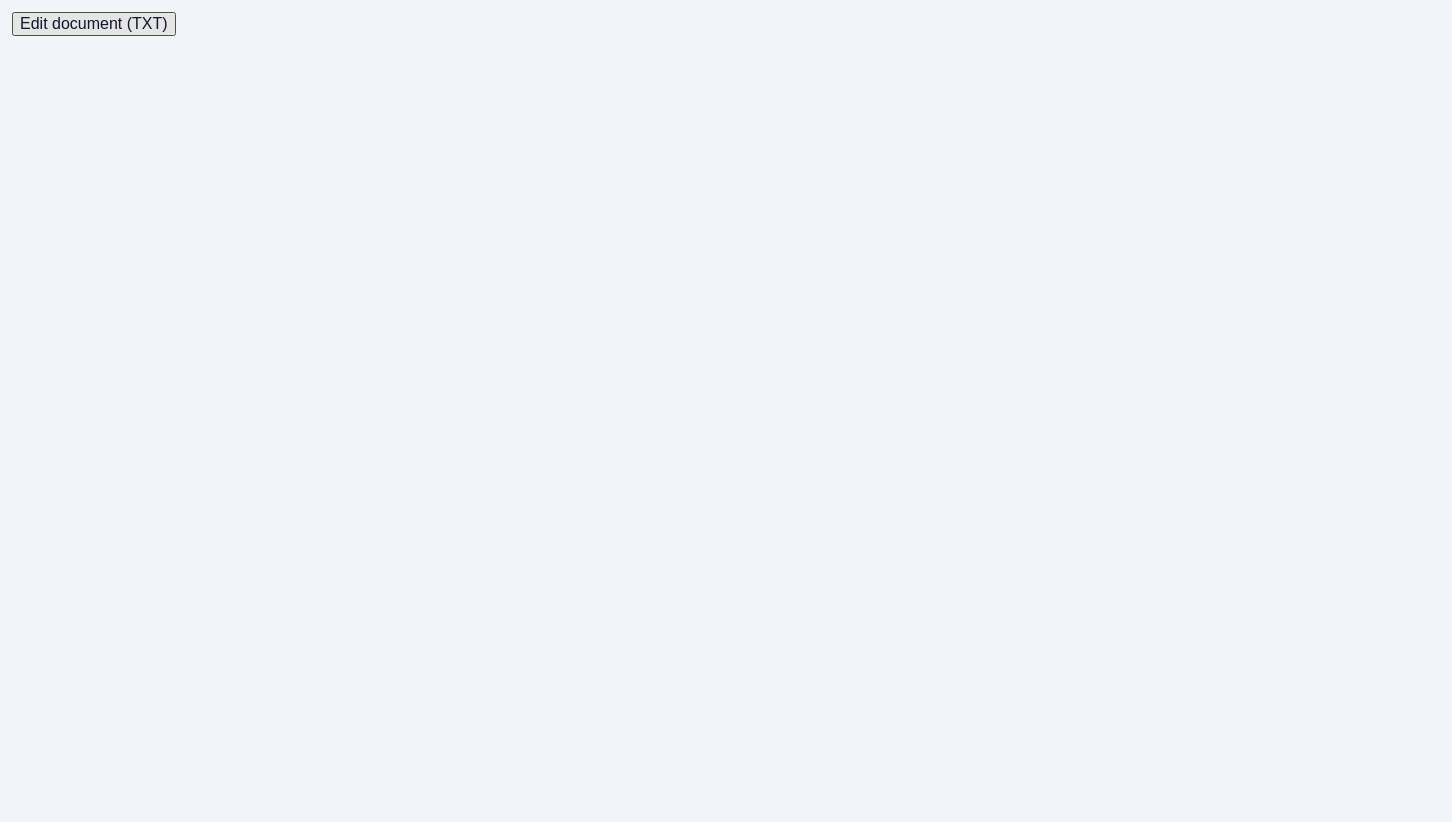
it: refuses selection when the saved editor draft changed
Click the button "Edit document (TXT)". click: (94, 24)
box: [12, 12, 176, 36]
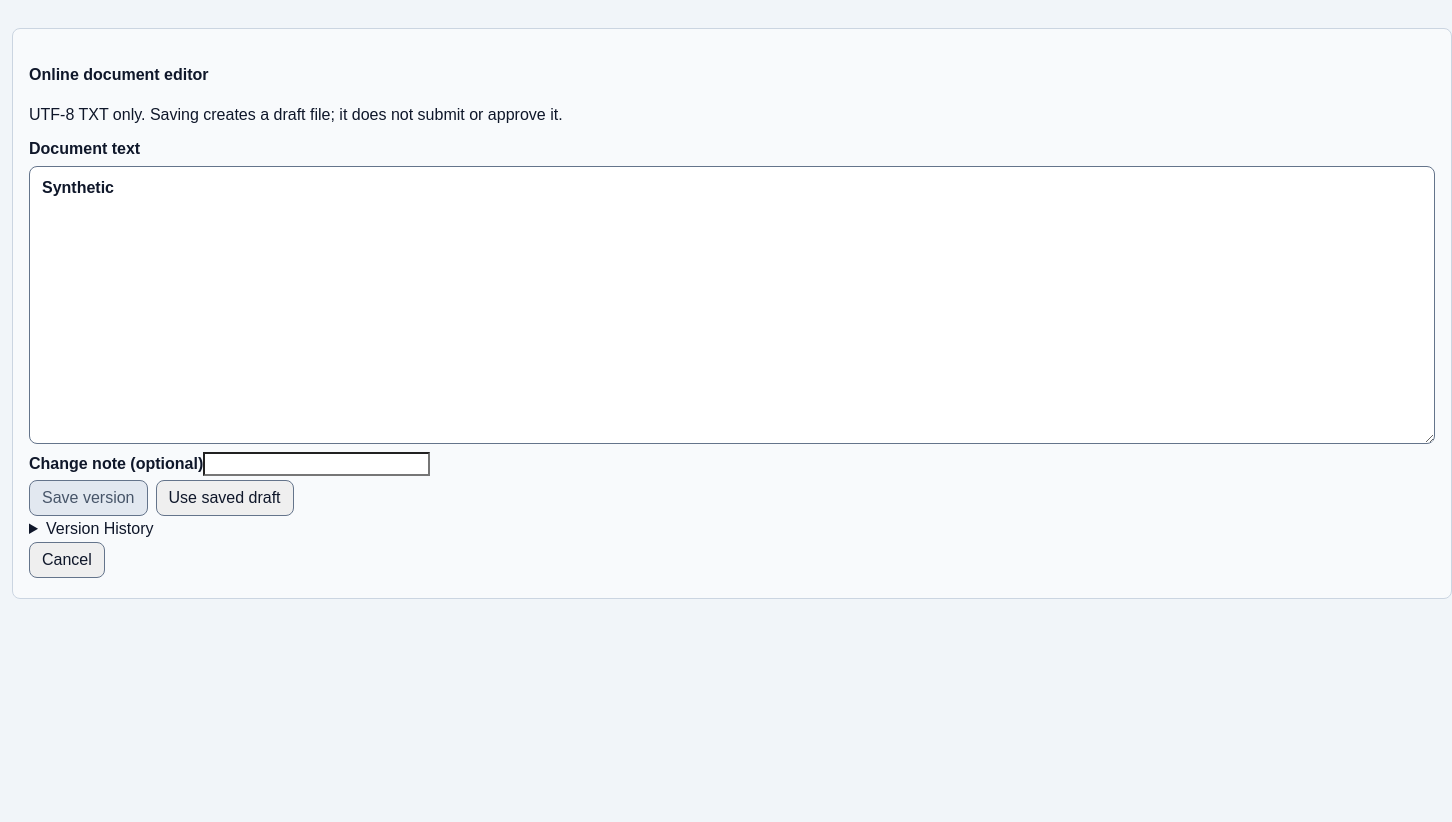
Click the button "Use saved draft". click: (225, 498)
box: [156, 480, 294, 516]
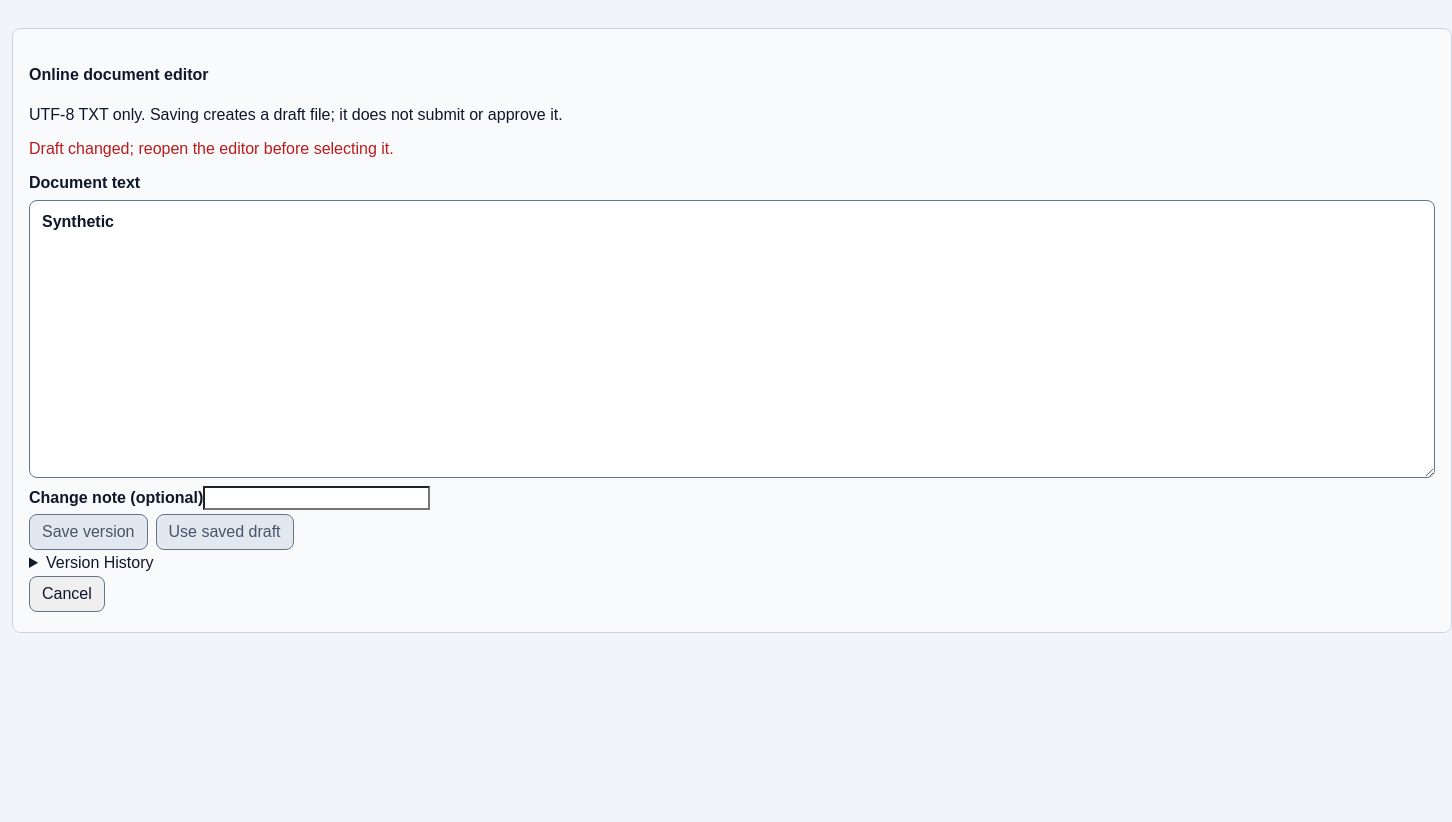
Result: the message shows "Draft changed" at [29, 140, 394, 156]
